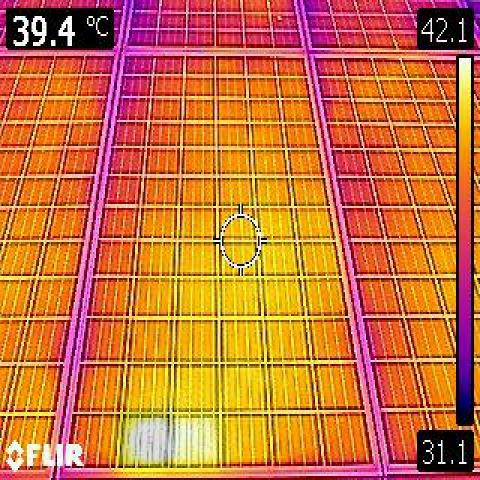fault: (119, 412, 172, 468), (175, 414, 219, 466)
